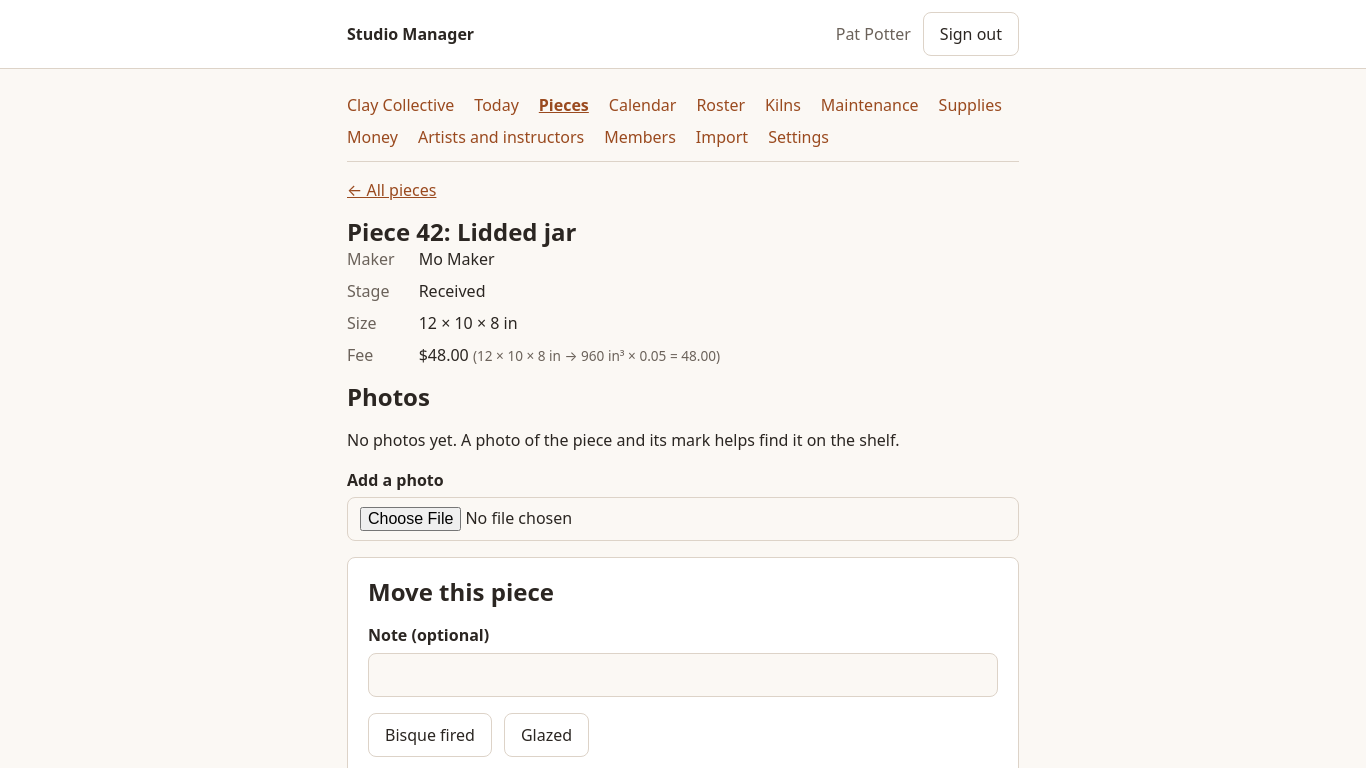
Test case: pieces › lets staff move a piece on, sending the version they saw
Check: the heading "Piece 42: Lidded jar" is shown, box [347, 215, 576, 248]
Step 1. Type "Cone 04" into the field labelled "Note (optional)" → (683, 675), box [368, 653, 998, 697]
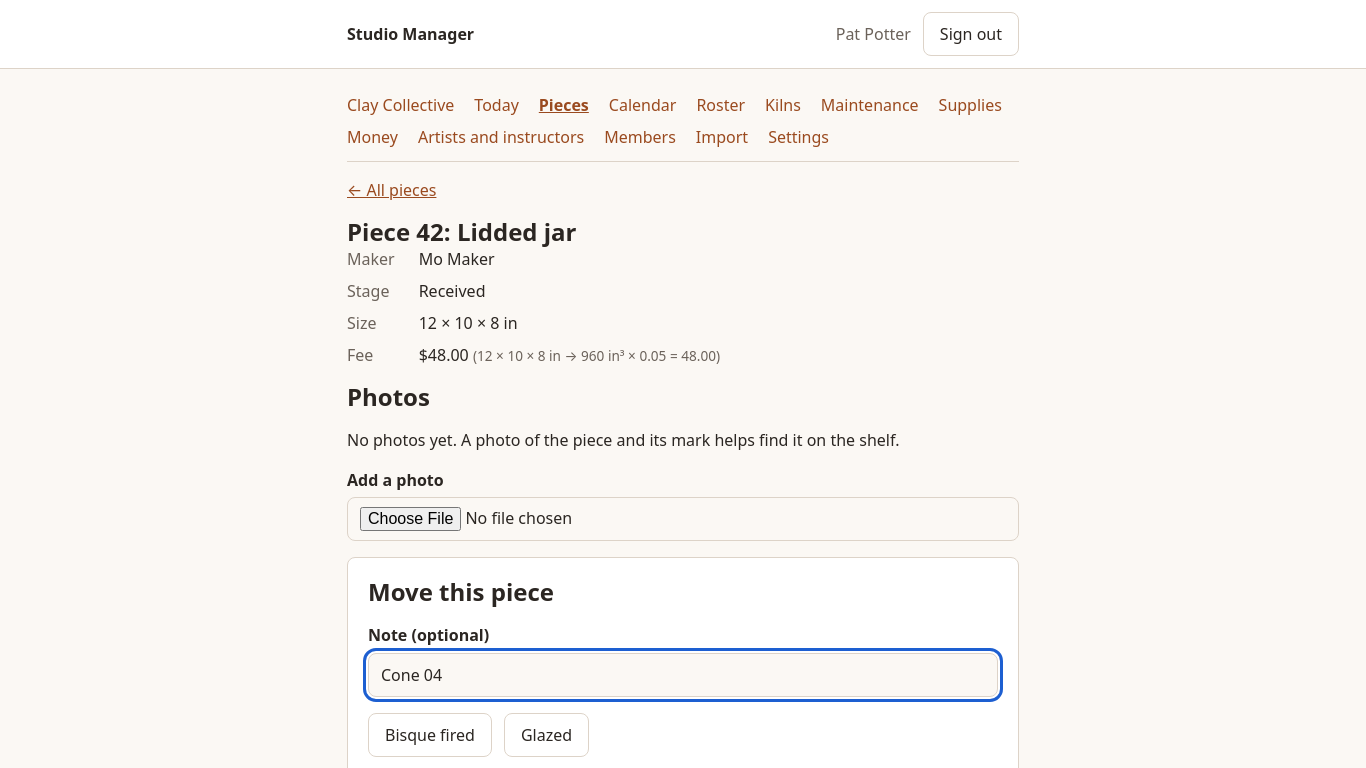
Step 2. Click the button "Bisque fired" → (430, 735), box [368, 713, 492, 757]
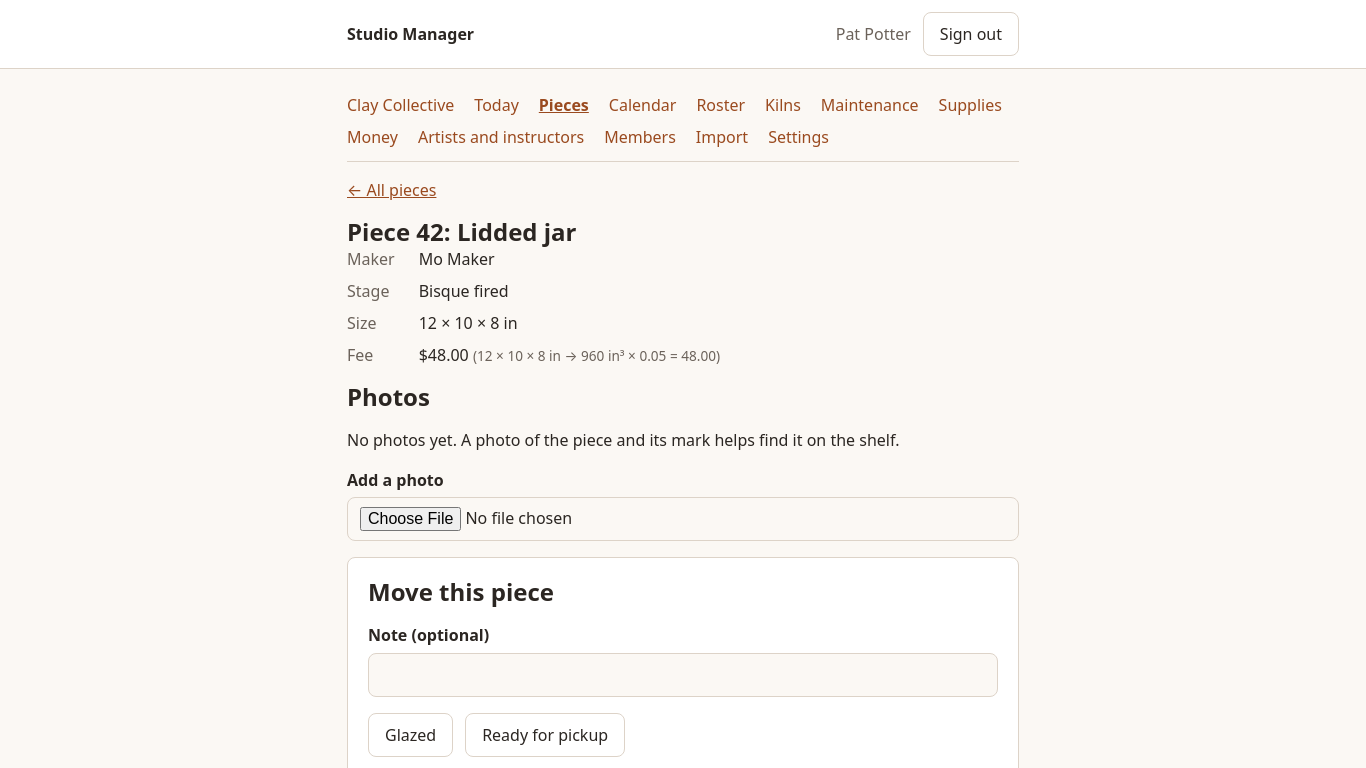
Check: the button "Ready for pickup" is shown, box [465, 713, 625, 757]
